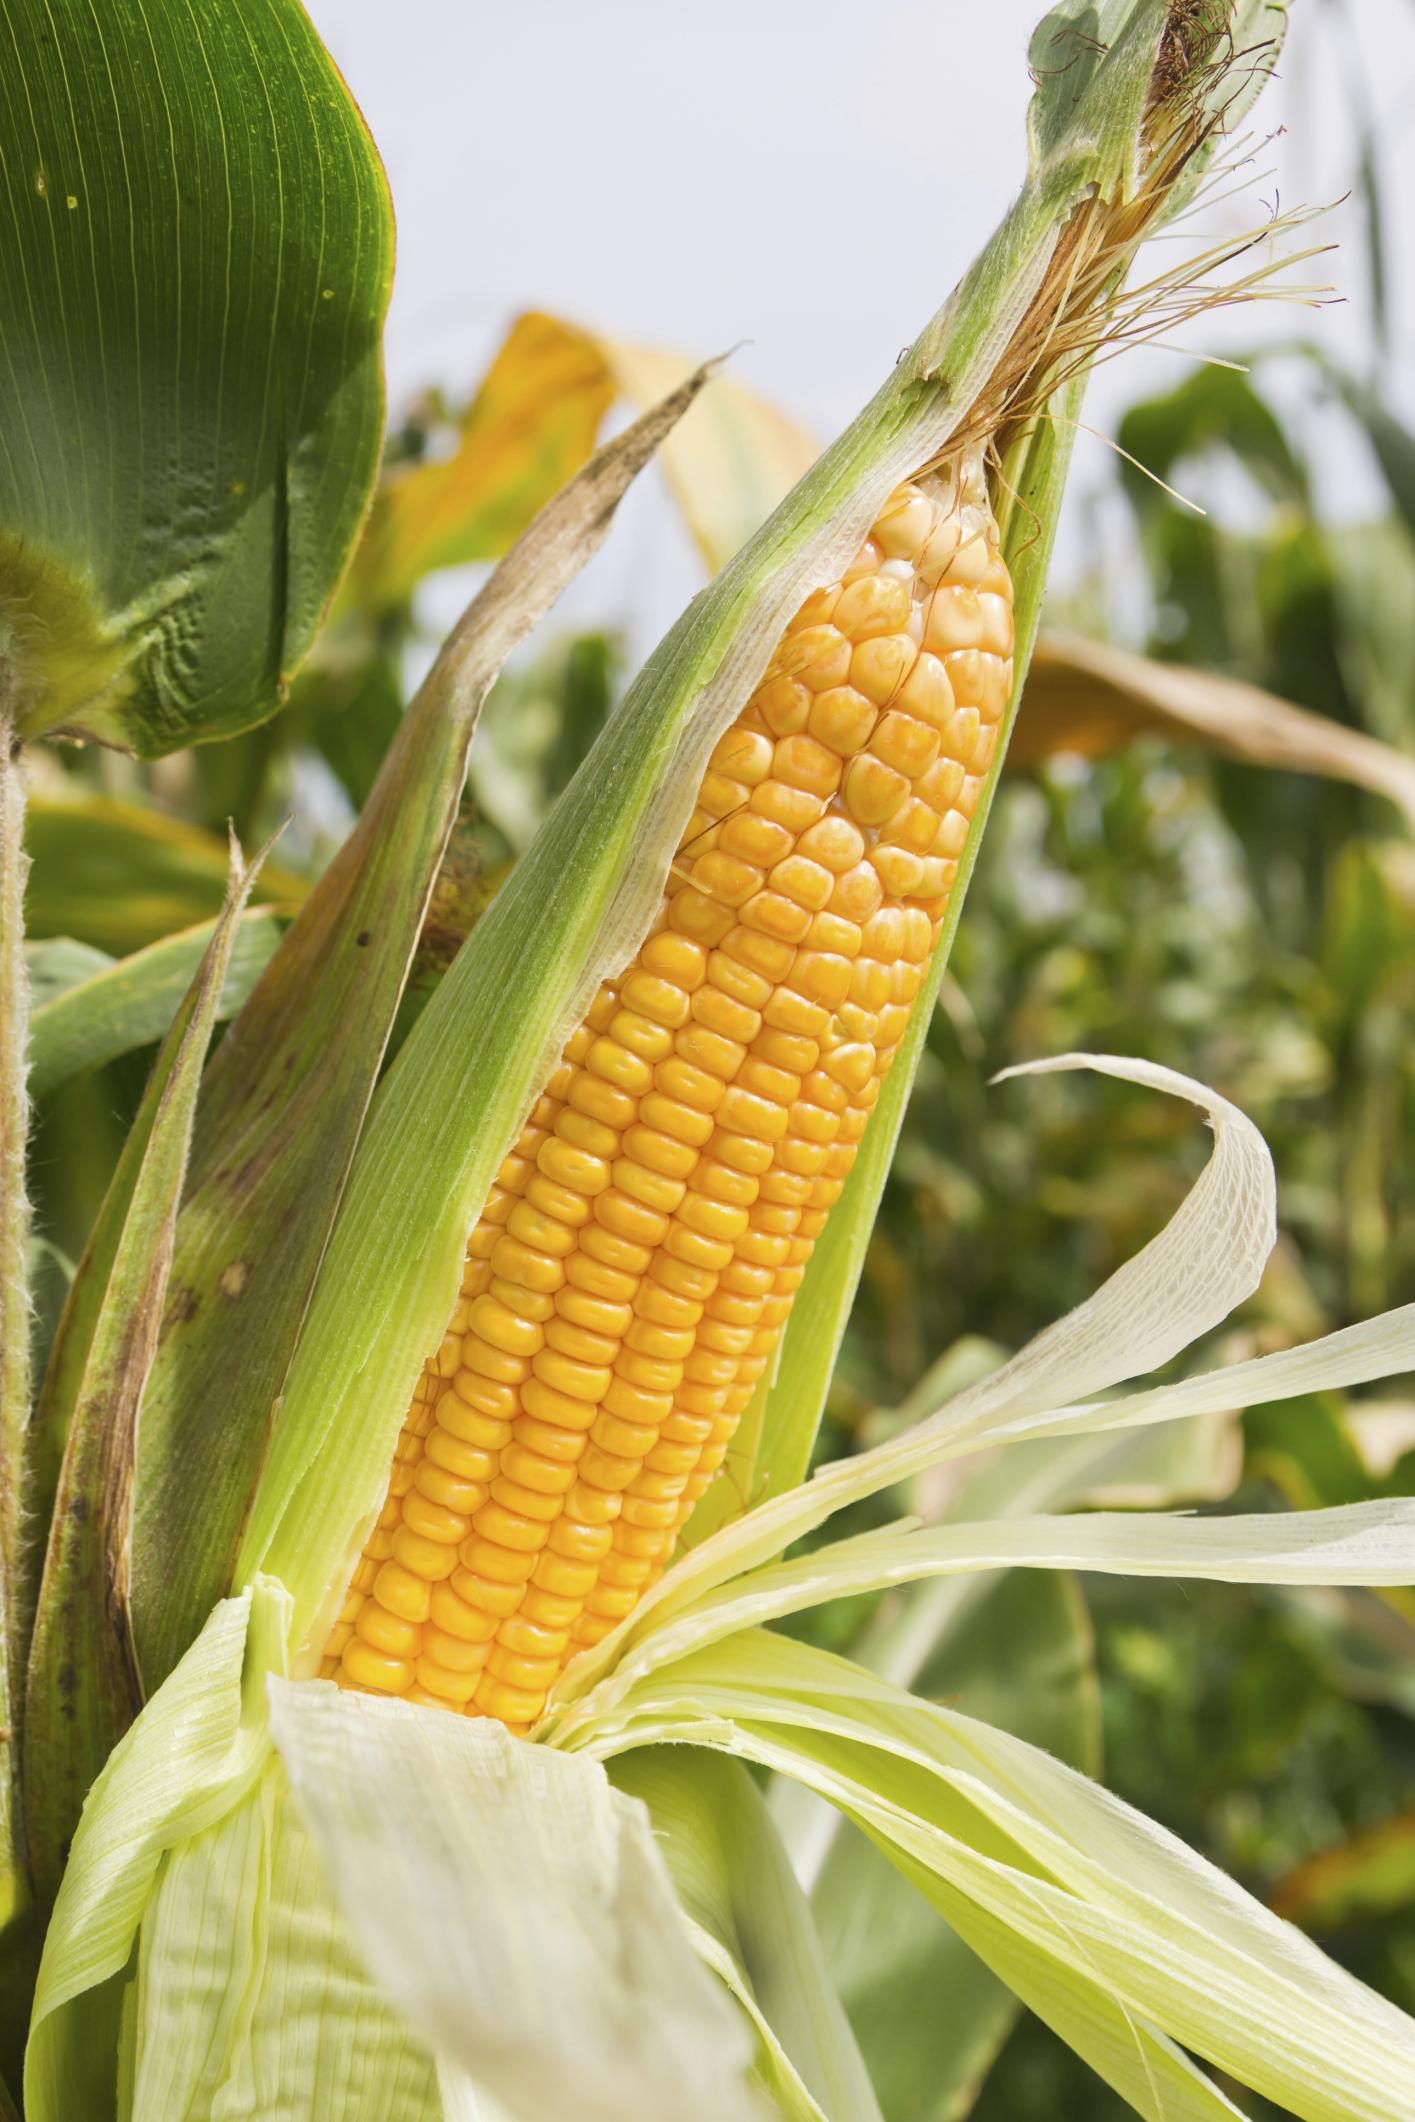corn: (17, 2, 1352, 2116), (310, 442, 1019, 1738)
